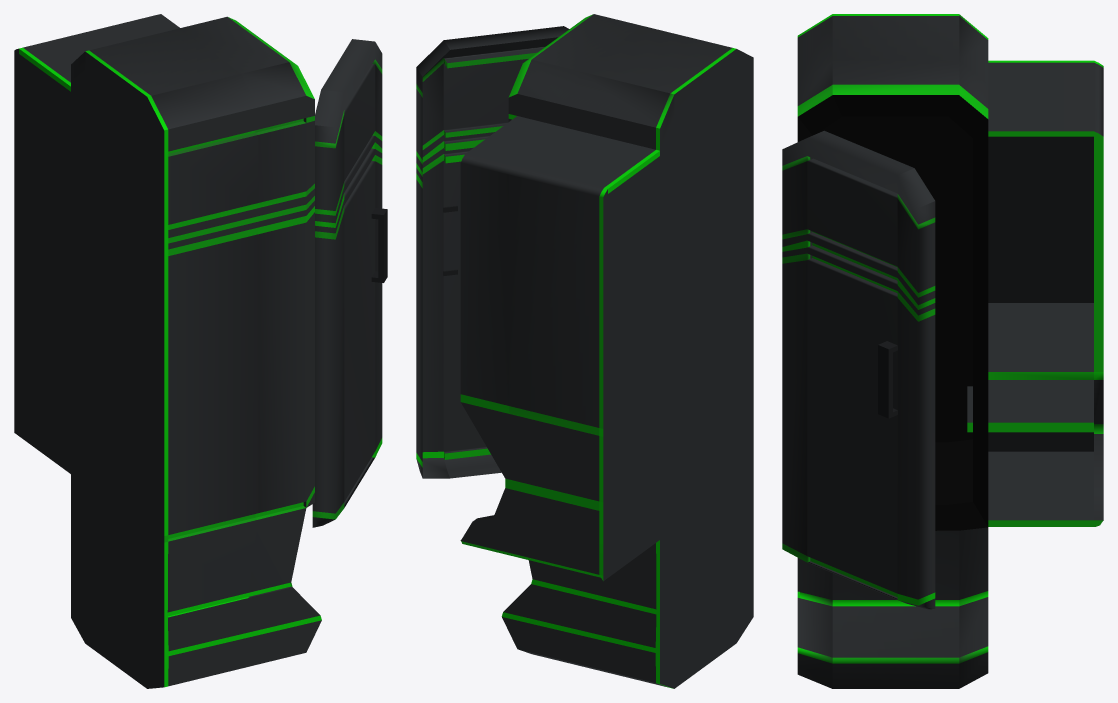
Rendered from BaseProp_Locker.fbx.
3 views of the same model, side by side, from view 1: azimuth 30°, elevation 25°; view 2: azimuth 150°, elevation 25°; view 3: azimuth 270°, elevation 25° (orthographic). The views are drawn at different scales.
Parts seen in each view (by area): view 1: polySurface826; view 2: polySurface826; view 3: polySurface826.
Part boxes in pixels (x1,y1,x2,y2): polySurface826: (14, 14, 387, 688); polySurface826: (416, 14, 753, 688); polySurface826: (782, 14, 1103, 688).
Size of the model in its own units: 1.07 by 2.19 by 1.06.
